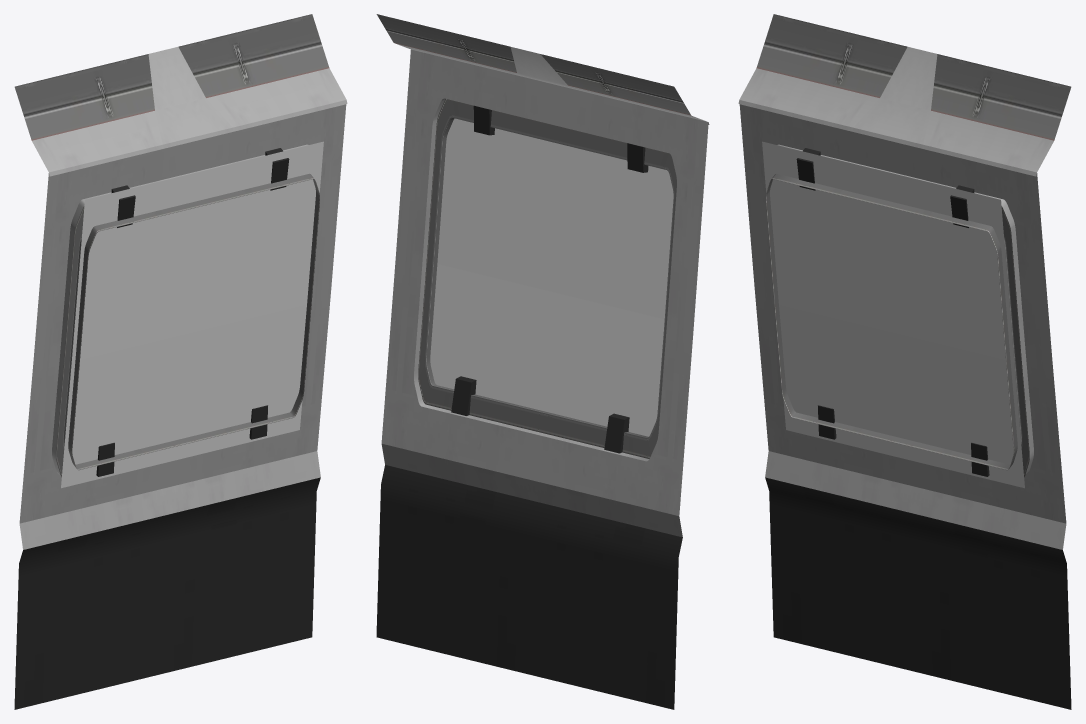
Rendered from fut-painel-janela.gltf.
3 renders of one model, left to right at view 1: azimuth 30°, elevation 25°; view 2: azimuth 150°, elevation 25°; view 3: azimuth 330°, elevation 25°, orthographic.
Visible parts, largest first — view 1: WallAstra_Straight_Window; view 2: WallAstra_Straight_Window; view 3: WallAstra_Straight_Window.
Boxes of the visible parts, <box> form: WallAstra_Straight_Window: <box>14,14,347,709</box>; WallAstra_Straight_Window: <box>376,14,709,709</box>; WallAstra_Straight_Window: <box>738,14,1071,709</box>.
Bounding box in the file's own units: 1 × 2 × 0.2488.
Materials: 4 (3 with a texture image).
